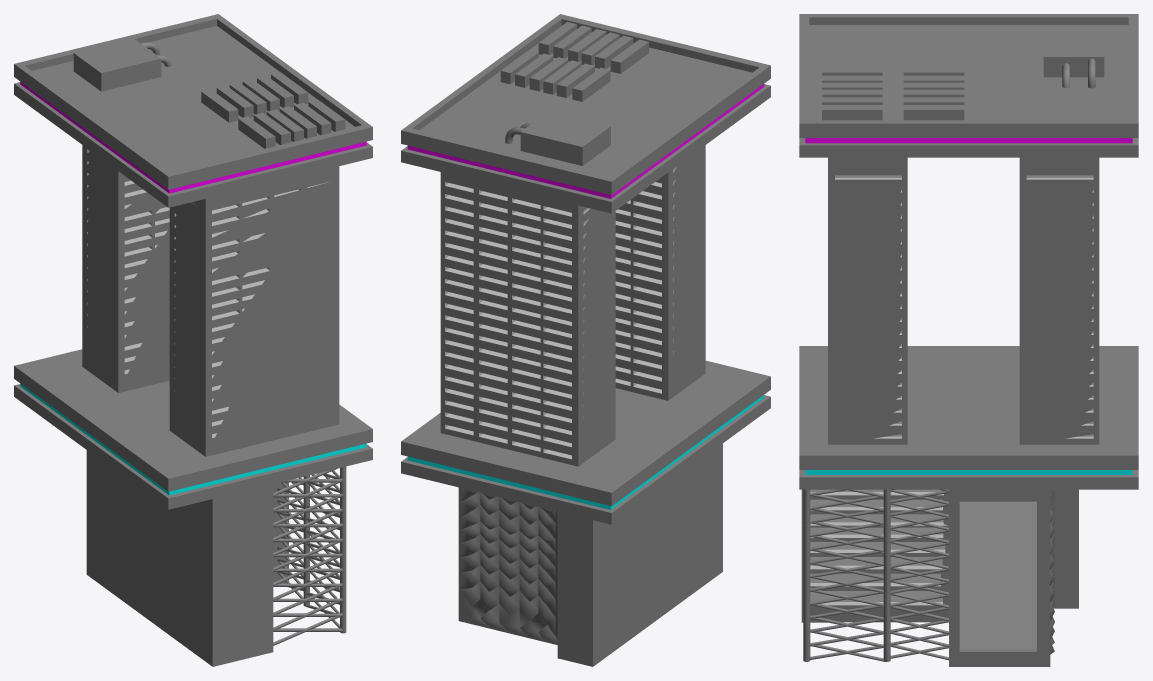
File: SM_Buildning_05.fbx
The picture shows the model from 3 angles, left to right: view 1: azimuth 30°, elevation 25°; view 2: azimuth 150°, elevation 25°; view 3: azimuth 270°, elevation 25°; orthographic projection. The views are drawn at different scales.
Visible parts, largest first — view 1: pCube575; view 2: pCube575; view 3: pCube575.
Part boxes in pixels (<box>): pCube575: <box>14,14,372,666</box>; pCube575: <box>401,14,770,666</box>; pCube575: <box>799,14,1138,666</box>.
Size of the model in its own units: 54.51 by 131 by 71.32.
